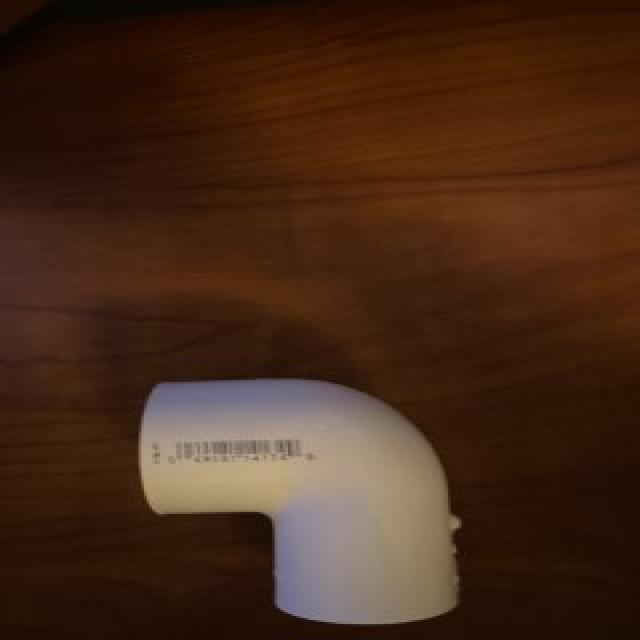L Joint: (136, 379, 462, 628)
